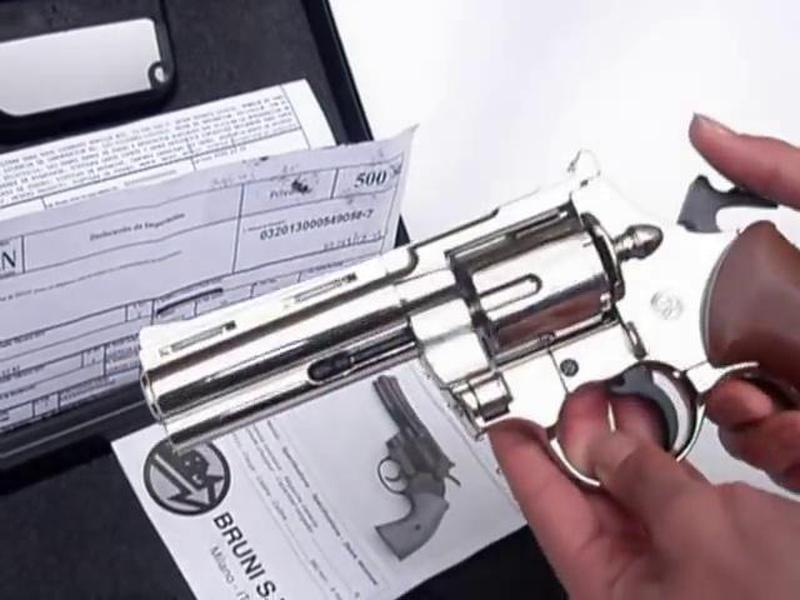Revolver: (114, 141, 759, 504)
